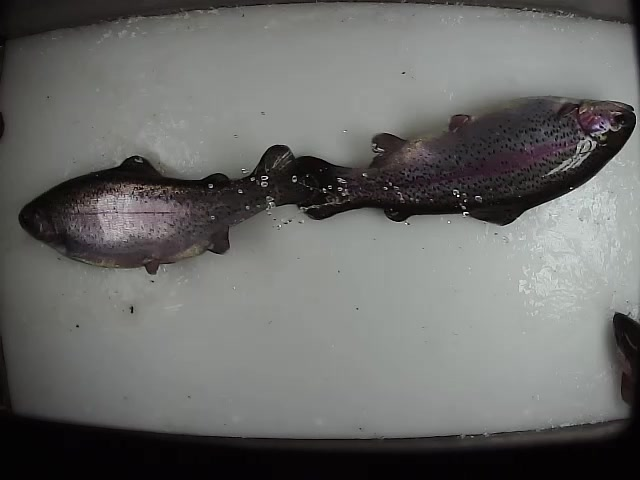fish: (292, 95, 635, 228), (17, 142, 313, 279)
